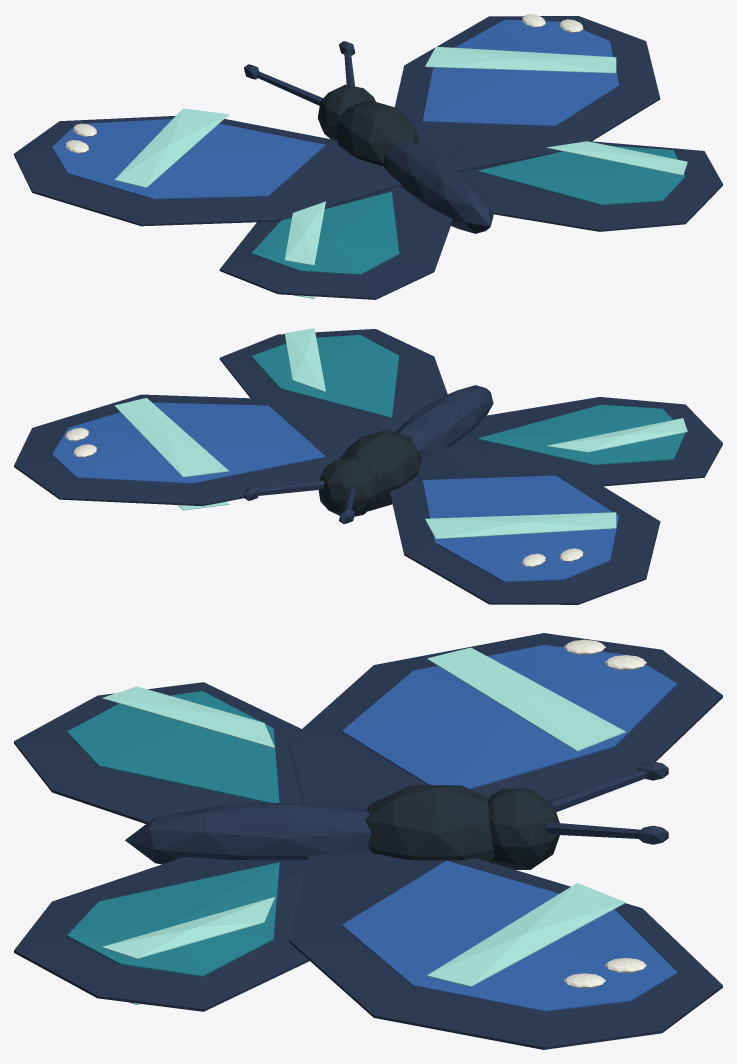
The model's file is wild_butterfly_blue.glb.
The picture shows the model from 3 angles, top to bottom: view 1: azimuth 30°, elevation 25°; view 2: azimuth 150°, elevation 25°; view 3: azimuth 270°, elevation 25°; orthographic projection. The views are drawn at different scales.
Visible parts, largest first — view 1: rounded forewing border, rounded forewing border.001, rounded hindwing border, rounded hindwing border.001, slender abdomen; view 2: rounded forewing border, rounded forewing border.001, rounded hindwing border, rounded hindwing border.001, slender abdomen; view 3: rounded forewing border.001, rounded forewing border, rounded hindwing border.001, rounded hindwing border, slender abdomen.
Part boxes in pixels (box(x1,y1,x2,y2)): rounded forewing border: box(14, 108, 401, 226); rounded forewing border.001: box(395, 14, 660, 171); rounded hindwing border: box(219, 186, 452, 299); rounded hindwing border.001: box(460, 141, 722, 231); slender abdomen: box(244, 41, 493, 233); rounded forewing border: box(390, 446, 660, 604); rounded forewing border.001: box(14, 394, 384, 510); rounded hindwing border: box(450, 397, 722, 486); rounded hindwing border.001: box(219, 328, 447, 431); slender abdomen: box(244, 385, 493, 523); rounded forewing border.001: box(288, 852, 722, 1049); rounded forewing border: box(288, 633, 722, 808); rounded hindwing border.001: box(14, 857, 309, 1011); rounded hindwing border: box(14, 682, 302, 823); slender abdomen: box(125, 761, 668, 869).
Bounding box in the file's own units: 0.646 × 0.068 × 0.467.
